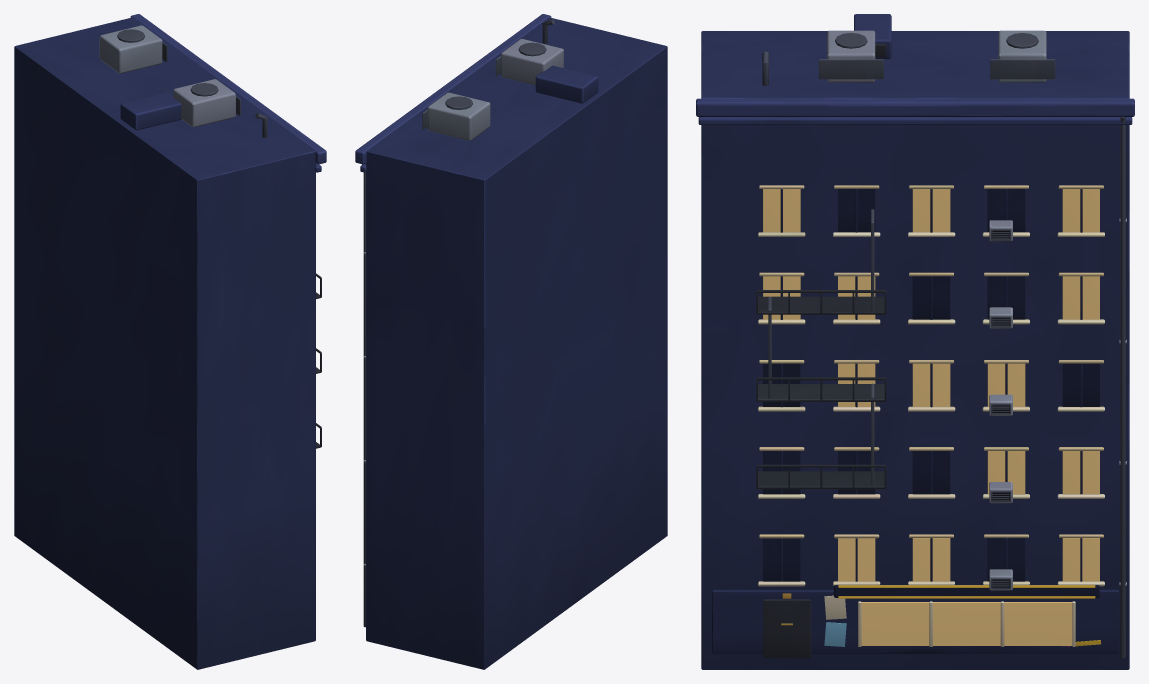
The model's file is SM_Studio_StreetBlock_C.fbx.
3 views of the same model, side by side, from view 1: azimuth 30°, elevation 25°; view 2: azimuth 150°, elevation 25°; view 3: azimuth 270°, elevation 25° (orthographic). The views are drawn at different scales.
Parts seen in each view (by area): view 1: SM_Studio_StreetBlock_C; view 2: SM_Studio_StreetBlock_C; view 3: SM_Studio_StreetBlock_C.
Boxes of the visible parts, x1=… form: SM_Studio_StreetBlock_C: x1=14, y1=14, x2=326, y2=669; SM_Studio_StreetBlock_C: x1=355, y1=14, x2=667, y2=669; SM_Studio_StreetBlock_C: x1=696, y1=14, x2=1134, y2=669.
Size of the model in its own units: 374 by 1245 by 820.
